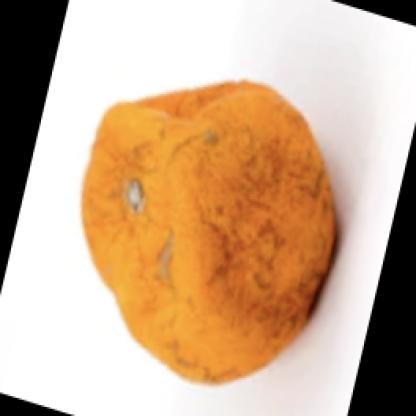rotten: (82, 79, 338, 391)
